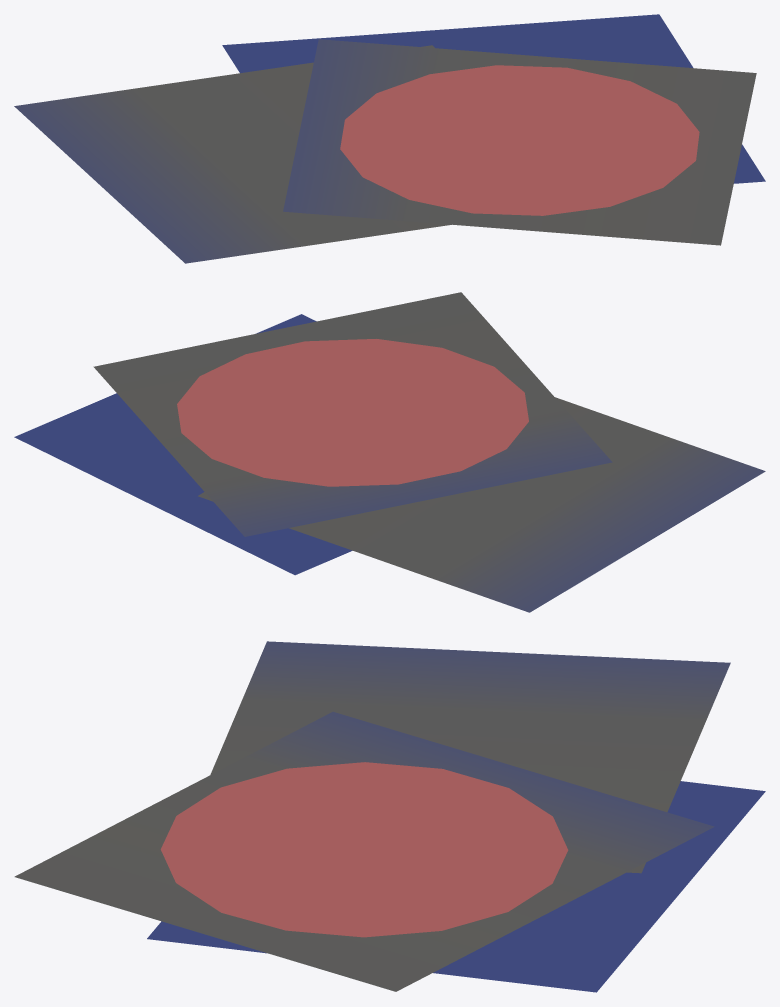
File: Office2_Vinyls.fbx
The picture shows the model from 3 angles, top to bottom: view 1: azimuth 30°, elevation 25°; view 2: azimuth 150°, elevation 25°; view 3: azimuth 270°, elevation 25°; orthographic projection. The views are drawn at different scales.
Visible parts, largest first — view 1: Office2_Vinyls; view 2: Office2_Vinyls; view 3: Office2_Vinyls.
Boxes of the visible parts, x1=… form: Office2_Vinyls: x1=14, y1=14, x2=765, y2=263; Office2_Vinyls: x1=14, y1=292, x2=765, y2=612; Office2_Vinyls: x1=14, y1=641, x2=765, y2=992.
Size of the model in its own units: 44.27 by 0.6636 by 40.77.
